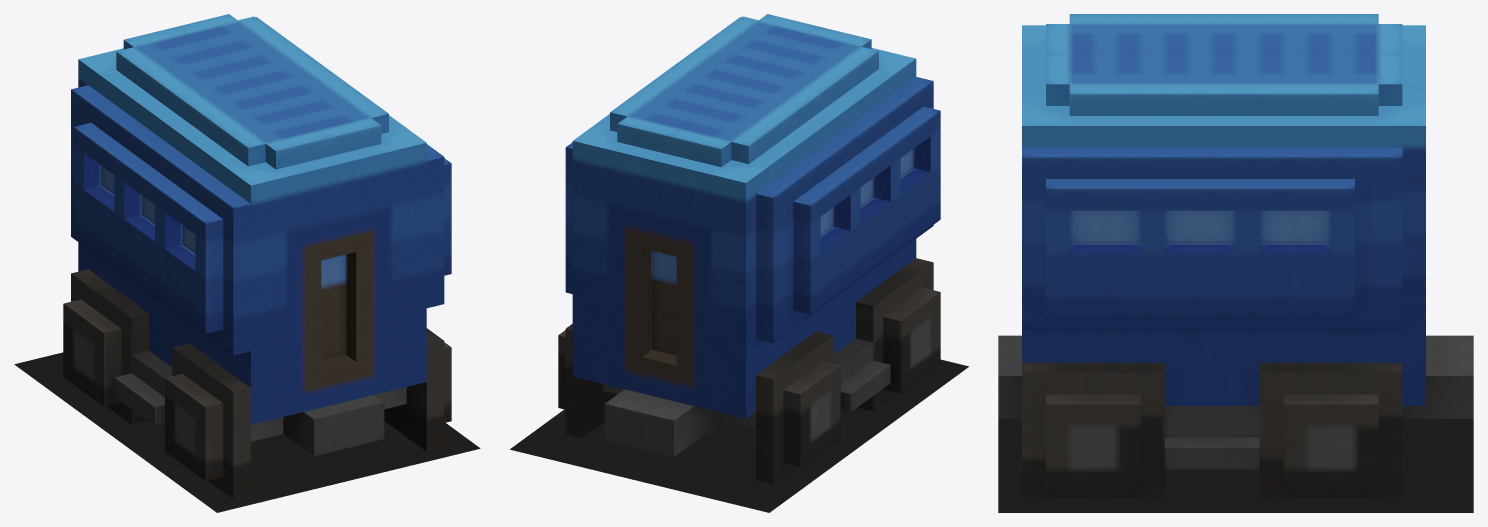
File: train_body_v2.FBX
3 renders of one model, left to right at view 1: azimuth 30°, elevation 25°; view 2: azimuth 150°, elevation 25°; view 3: azimuth 270°, elevation 25°, orthographic. The views are drawn at different scales.
Visible parts, largest first — view 1: train_body_v2, train_body_soft_shadow; view 2: train_body_v2, train_body_soft_shadow; view 3: train_body_v2, train_body_soft_shadow.
Boxes of the visible parts, <box> form: train_body_v2: <box>63,14,451,498</box>; train_body_soft_shadow: <box>14,352,480,512</box>; train_body_v2: <box>558,14,940,484</box>; train_body_soft_shadow: <box>510,359,968,512</box>; train_body_v2: <box>998,14,1473,497</box>; train_body_soft_shadow: <box>998,419,1473,512</box>.
Bounding box in the file's own units: 750 × 900 × 1000.
